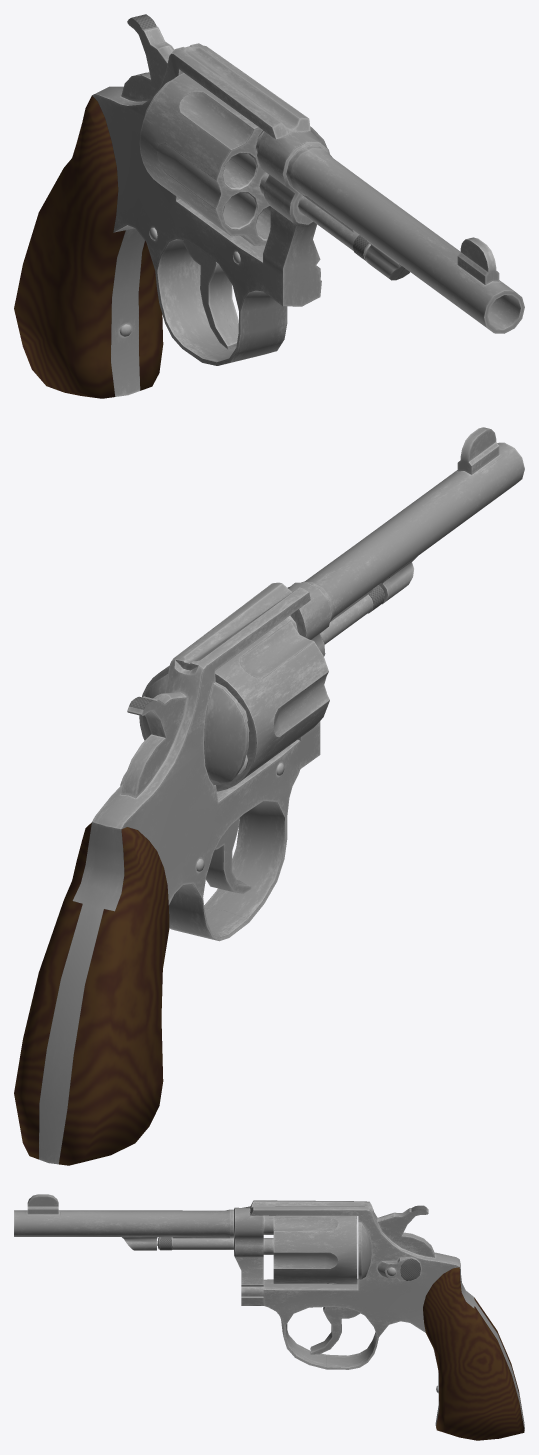
Rendered from revolver.glb.
The picture shows the model from 3 angles, top to bottom: view 1: azimuth 30°, elevation 25°; view 2: azimuth 150°, elevation 25°; view 3: azimuth 270°, elevation 25°; orthographic projection. The views are drawn at different scales.
Visible parts, largest first — view 1: revolver; view 2: revolver; view 3: revolver.
Part boxes in pixels (x1,y1,x2,y2): revolver: (14,14,524,398); revolver: (14,427,524,1165); revolver: (14,1194,524,1440).
Bounding box in the file's own units: 0.0521 × 0.1787 × 0.3494.
1 material, 1 textured.
